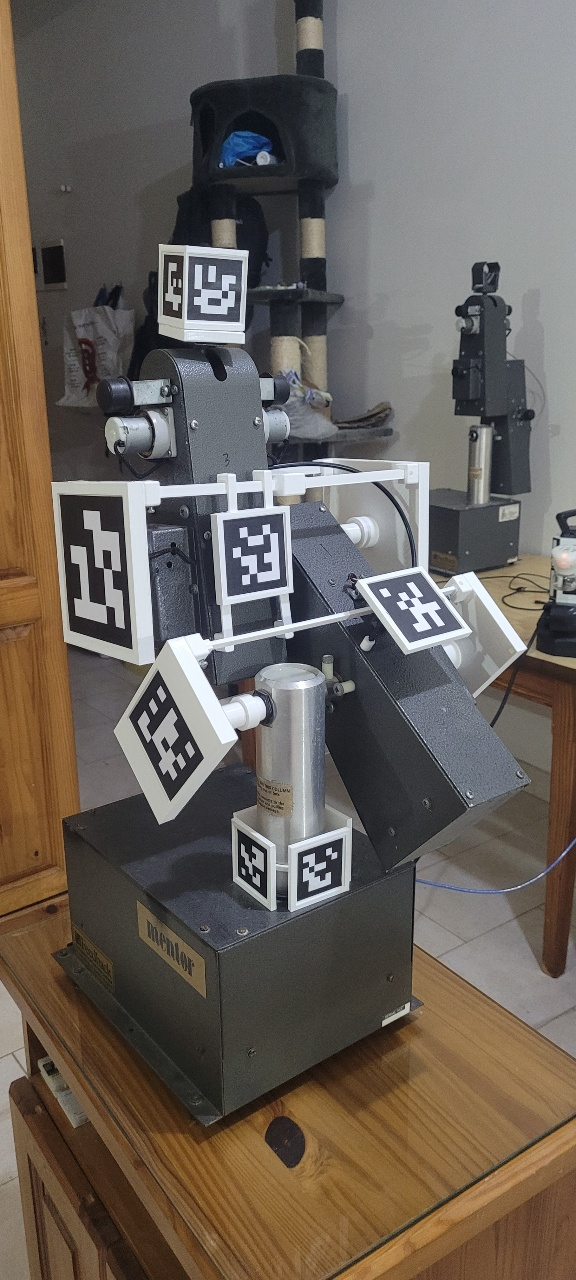Robot: (49, 243, 536, 913)
